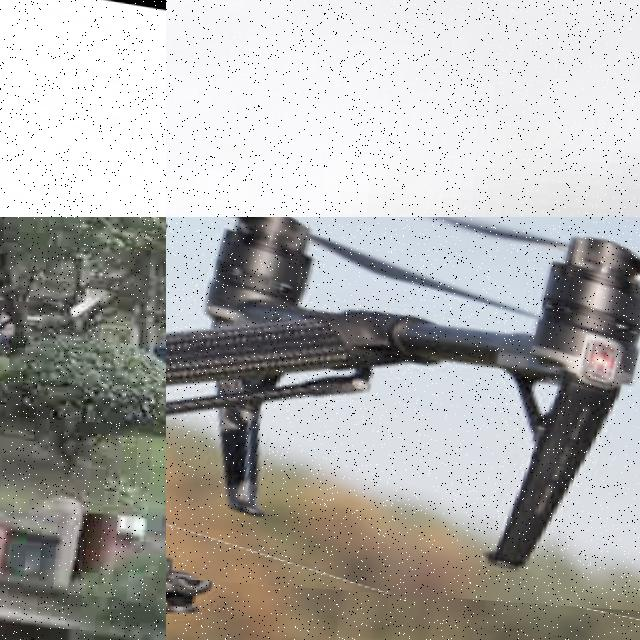drone: (166, 217, 640, 619), (0, 0, 166, 217)
